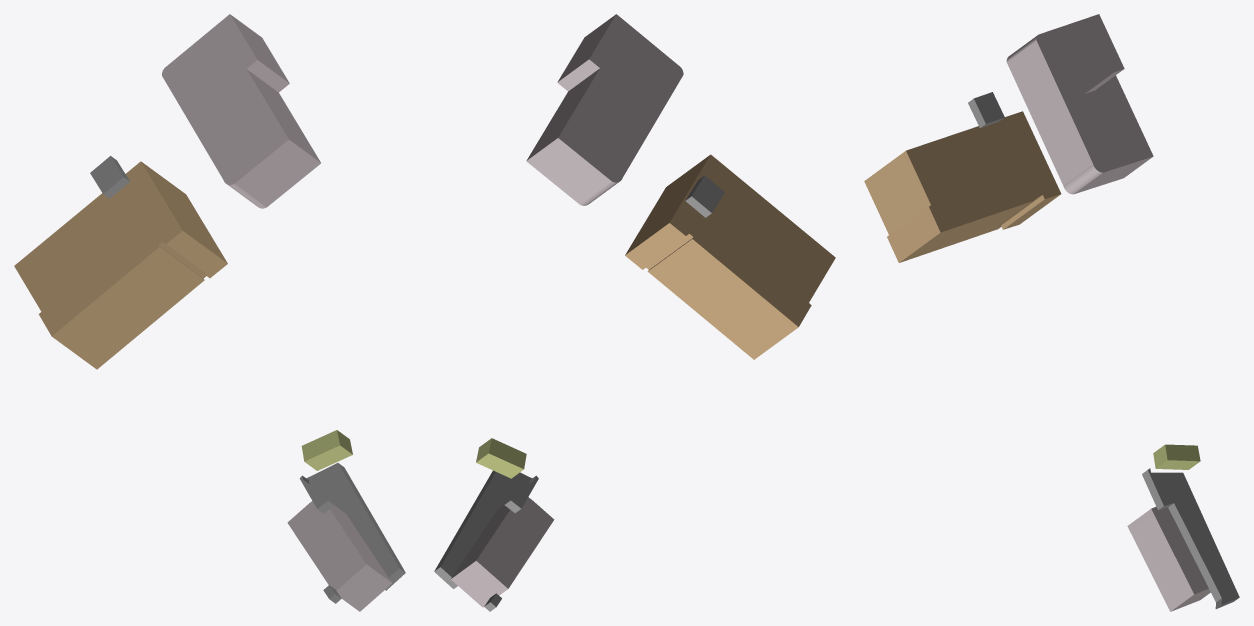
3 renders of one model, left to right at view 1: azimuth 30°, elevation 25°; view 2: azimuth 150°, elevation 25°; view 3: azimuth 330°, elevation 25°, orthographic. The views are drawn at different scales.
Visible parts, largest first — view 1: 0_1_2_0_0_2_0; view 2: 0_1_2_0_0_2_0; view 3: 0_1_2_0_0_2_0.
Part boxes in pixels (x1=…): 0_1_2_0_0_2_0: x1=14, y1=14, x2=405, y2=611; 0_1_2_0_0_2_0: x1=434, y1=14, x2=835, y2=611; 0_1_2_0_0_2_0: x1=864, y1=14, x2=1239, y2=611.
Size of the model in its own units: 100 by 155 by 21.
